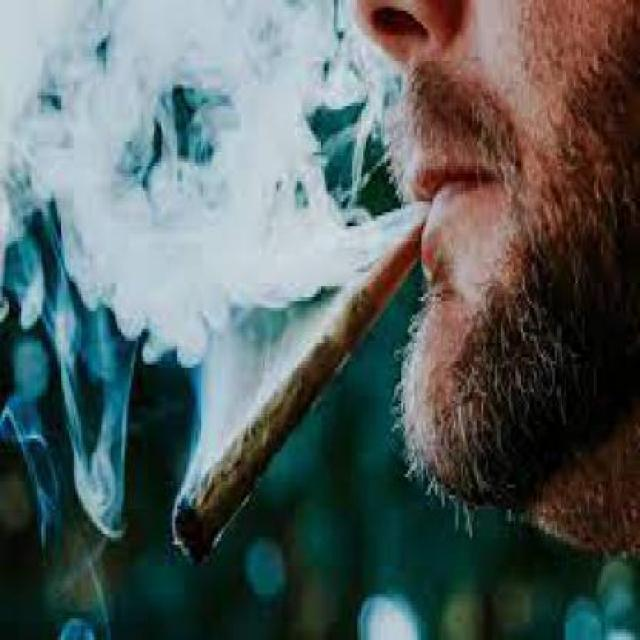cigarette: (171, 188, 432, 566)
